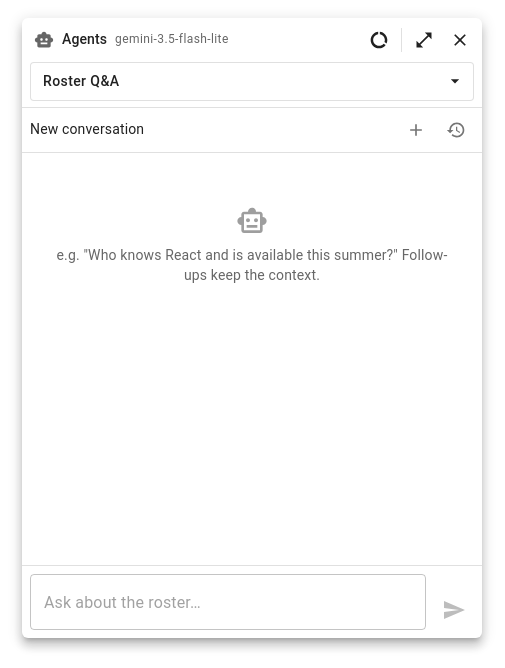
Test: the dock header names the surface's configured model › steps aside while the Token Ledger is open, and comes back
This screenshot has width=505, height=668.
Click the button named "Token usage" at (379, 40), box [361,22,397,58]
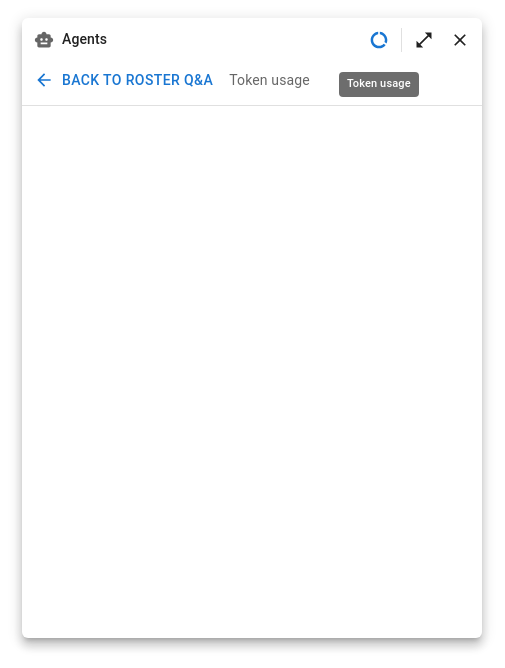
expect the text "gemini-3.5-flash-lite" is gone: met
Click the button named "Token usage" at (379, 40), box [361,22,397,58]
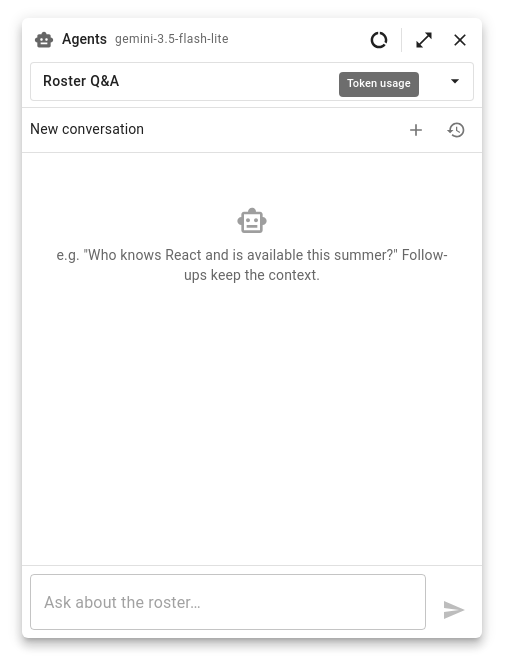
expect the text "gemini-3.5-flash-lite" is shown: met, box [115,30,229,50]
